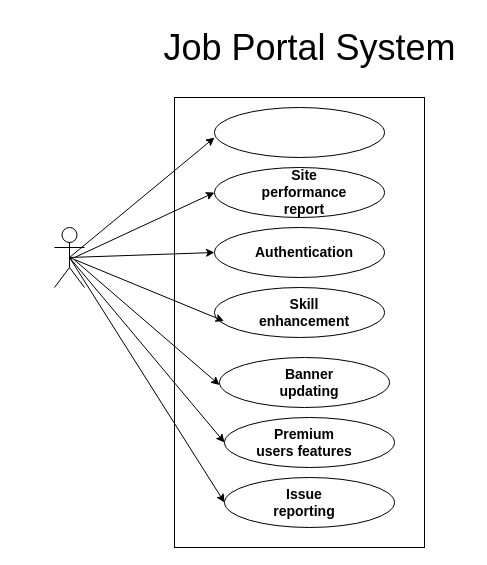
Image size: 487x565. Some labels were removed from this diagram. The shapes that lost their labels are listed below. From the top down, each one's centre as x and y in pixels, then its label:
At point 299,132: "Users activity analytics".
At point 69,257: "Platform Admin".
